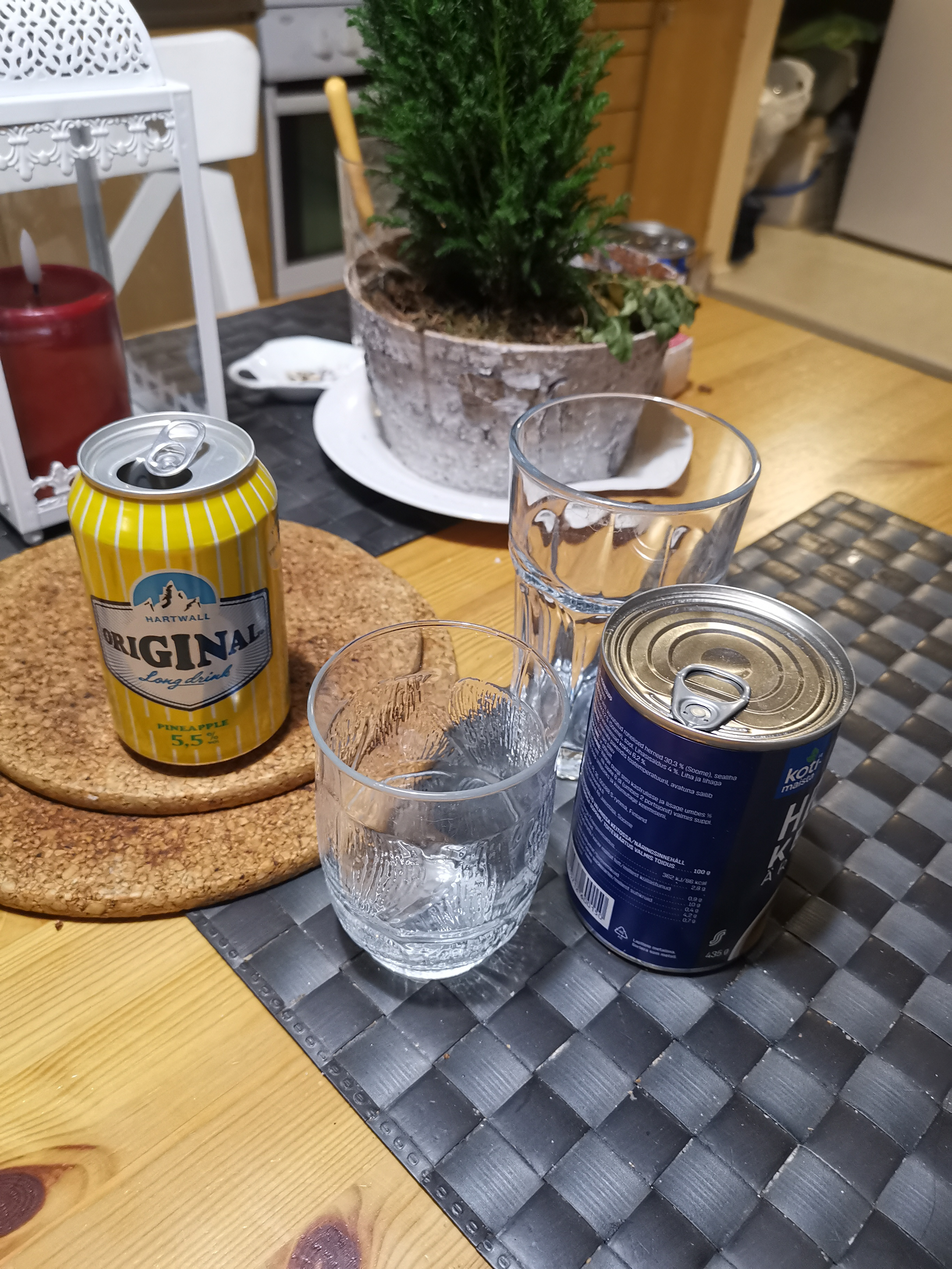Konservburk: (561, 580, 861, 979)
Pantburk: (65, 408, 297, 771)
